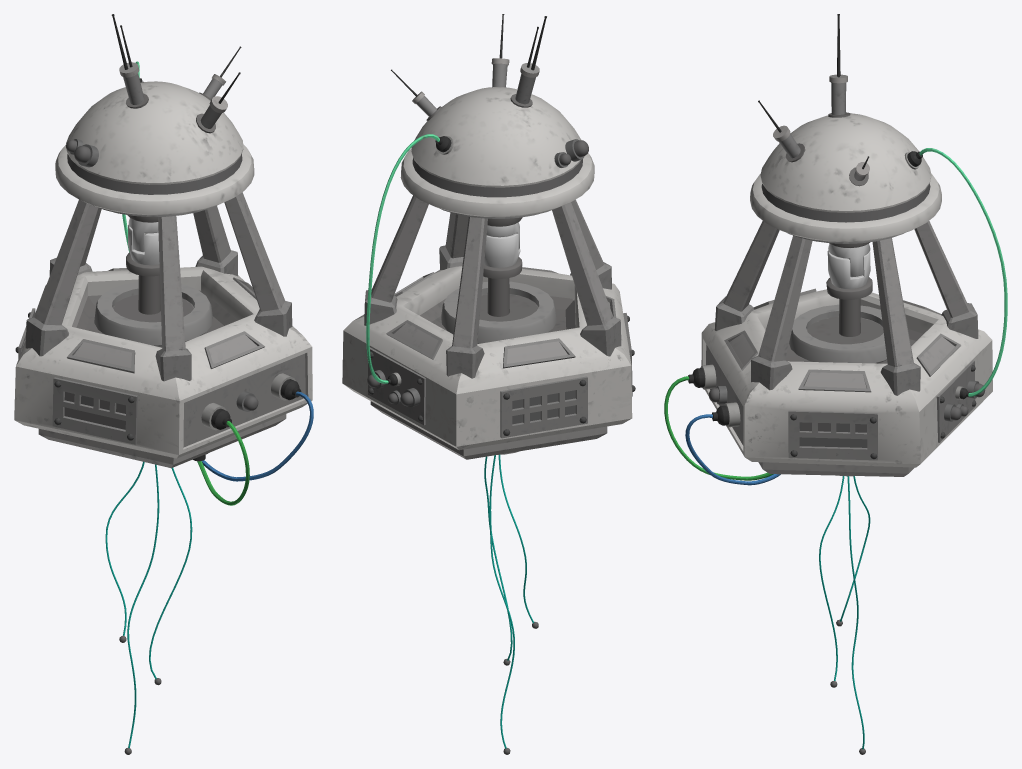
Rendered from ChalDeep_Probe00.fbx.
3 views of the same model, side by side, from view 1: azimuth 30°, elevation 25°; view 2: azimuth 150°, elevation 25°; view 3: azimuth 270°, elevation 25° (orthographic). The views are drawn at different scales.
Visible parts, largest first — view 1: chalDeep_base, challDeep_botCoup, challDeep_antenae, challDeep_topCoup; view 2: chalDeep_base, challDeep_botCoup, challDeep_antenae, challDeep_topCoup; view 3: chalDeep_base, challDeep_botCoup, challDeep_antenae, challDeep_topCoup.
Boxes of the visible parts, <box> form: chalDeep_base: <box>14,14,313,505</box>; challDeep_botCoup: <box>126,225,160,314</box>; challDeep_antenae: <box>105,461,192,754</box>; challDeep_topCoup: <box>127,215,158,252</box>; chalDeep_base: <box>342,14,635,459</box>; challDeep_botCoup: <box>483,233,522,316</box>; challDeep_antenae: <box>484,451,538,754</box>; challDeep_topCoup: <box>486,217,522,249</box>; chalDeep_base: <box>664,14,1007,485</box>; challDeep_botCoup: <box>826,251,872,336</box>; challDeep_antenae: <box>819,475,870,754</box>; challDeep_topCoup: <box>828,242,870,277</box>.
Bounding box in the file's own units: 1.41 × 3.9 × 1.67.
